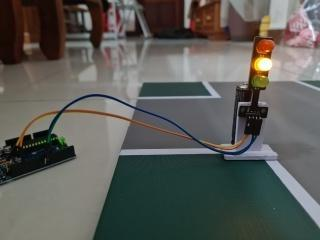yellow: (240, 26, 284, 99)
